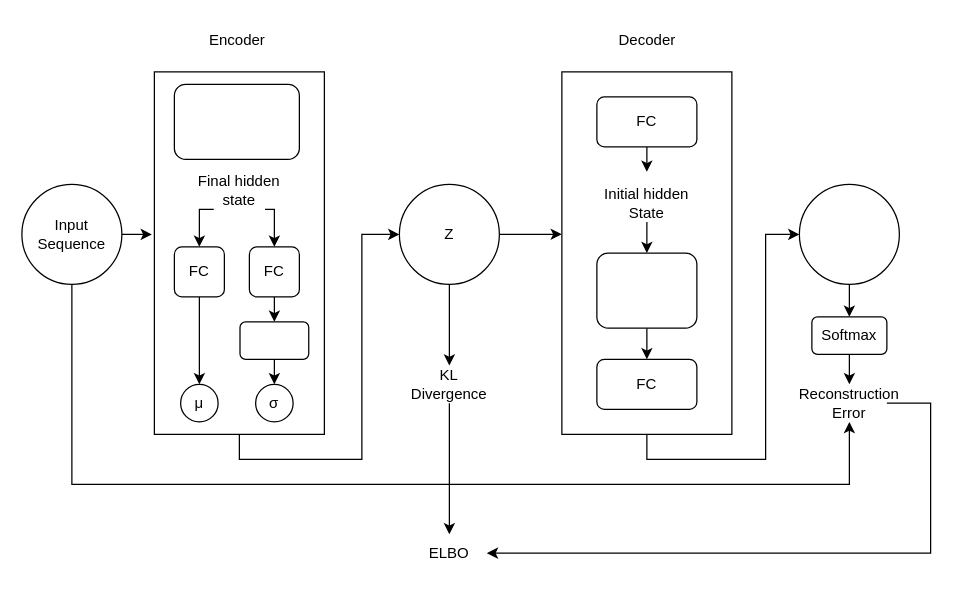
This 963x593 diagram has some shape labels left out. The centre of each missing label's shape, as x and y in pixels:
2 Layer Bidirectional LSTM: [236,121]
2 Layer Unidirectional LSTM: [646,290]
Logits: [848,233]
Softplus: [274,340]
